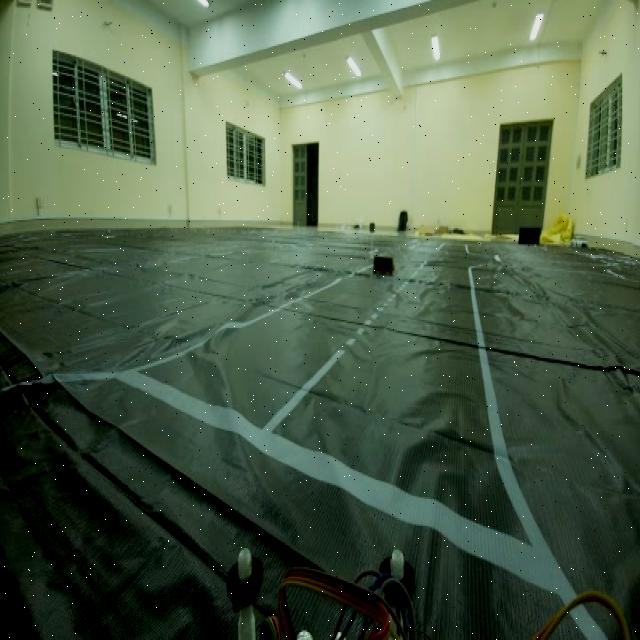roadblock: (371, 253, 396, 279)
